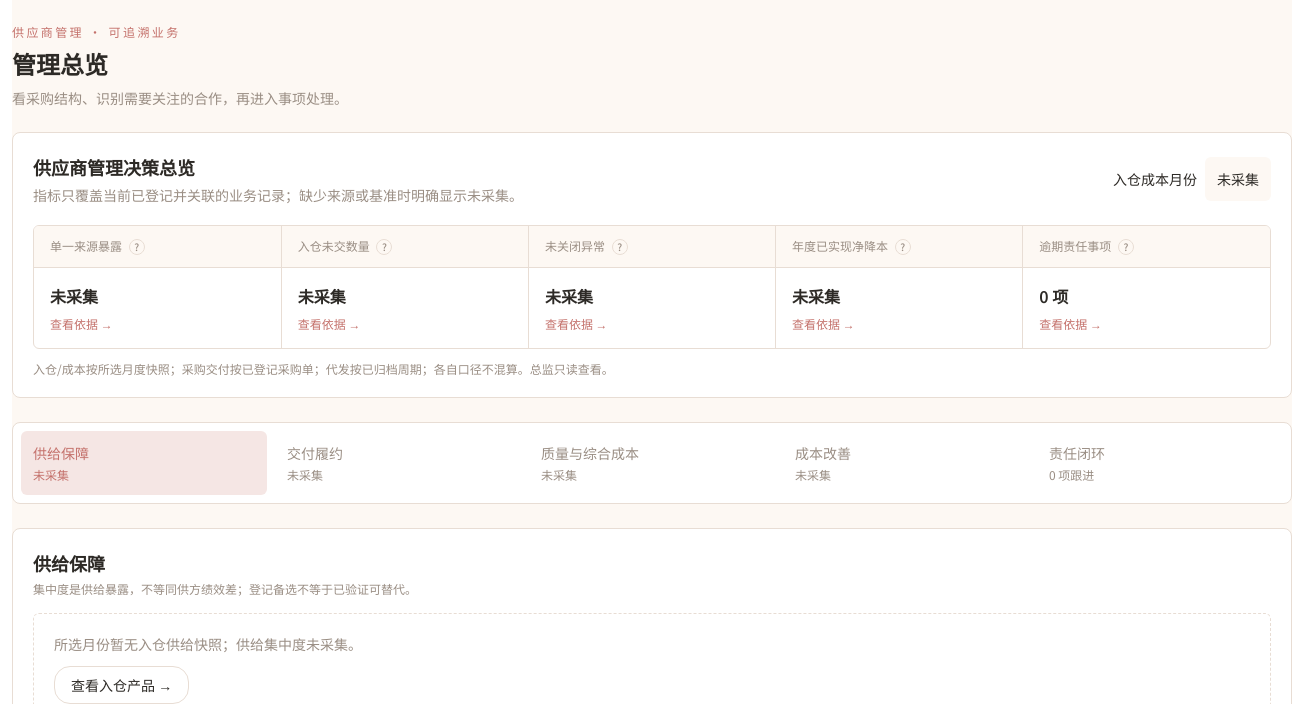
Scenario: organizes management overview into five switchable decision themes instead of stacking all panels
expect the tab "供给保障 未采集" is shown: met, box [21, 431, 267, 495]
expect the tab "质量与综合成本 未采集" is shown: met, box [529, 431, 775, 495]
Click the tab "交付履约 未采集". click: (398, 463)
box: [275, 431, 521, 495]
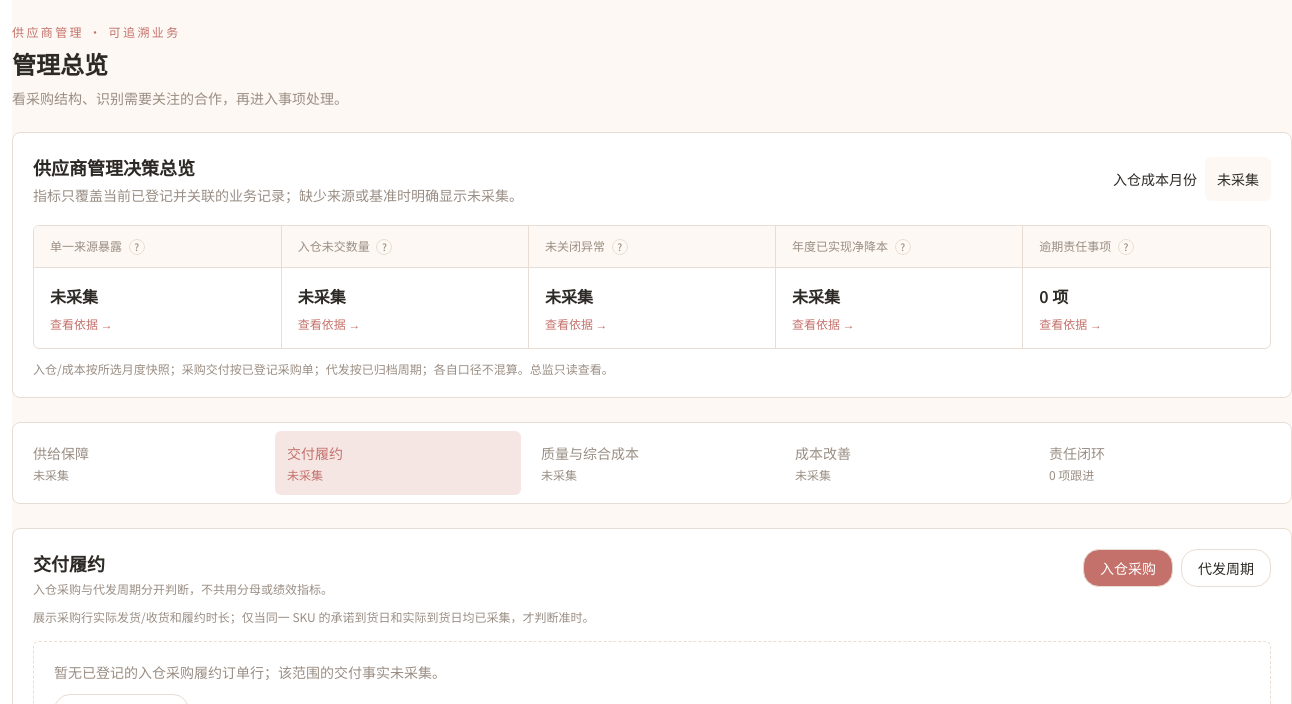
expect the text "展示采购行实际发货/收货和履约时长；仅当同一 SKU 的承诺到货日和实际到货日均已采集，才判断准时。" is shown: met, box [33, 608, 594, 625]
